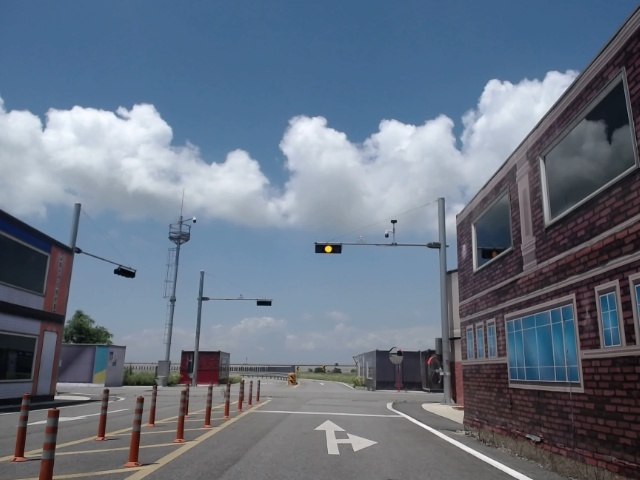orange_3: (313, 242, 342, 253)
